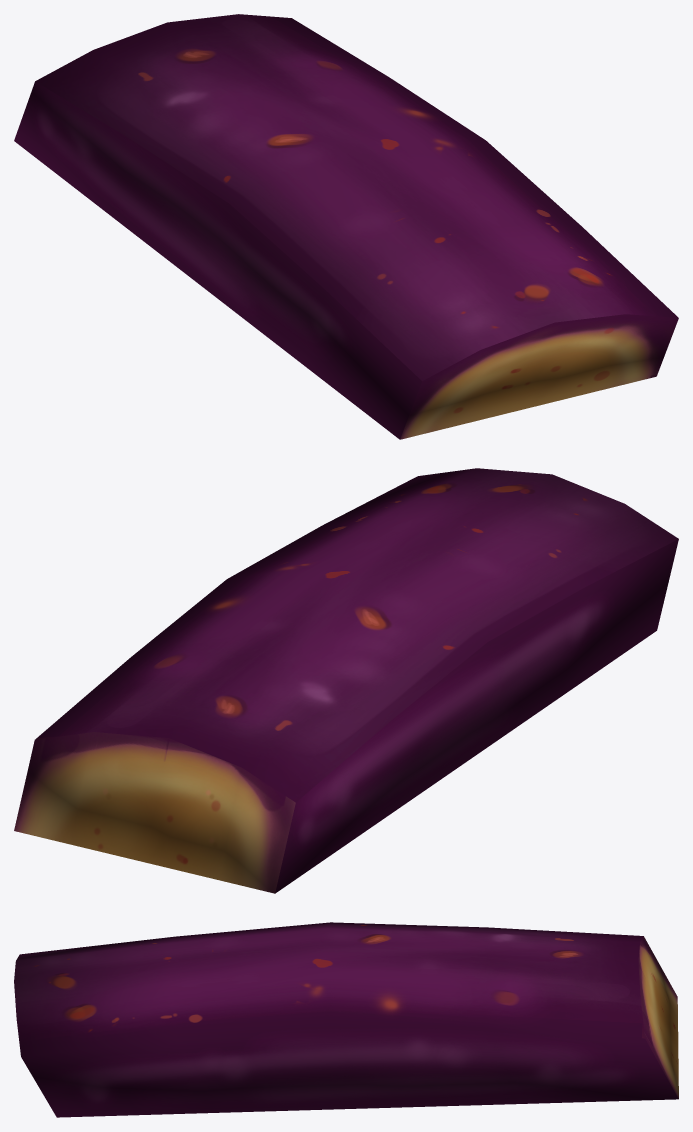
Rendered from eggplant.fbx.
The picture shows the model from 3 angles, top to bottom: view 1: azimuth 30°, elevation 25°; view 2: azimuth 150°, elevation 25°; view 3: azimuth 270°, elevation 25°; orthographic projection. The views are drawn at different scales.
Parts seen in each view (by area): view 1: eggplant_single; view 2: eggplant_single; view 3: eggplant_single.
Boxes of the visible parts, bbox=[...] form: eggplant_single: bbox=[14, 14, 678, 439]; eggplant_single: bbox=[14, 468, 678, 893]; eggplant_single: bbox=[14, 922, 678, 1117].
Bounding box in the file's own units: 9.57 × 4.99 × 25.82.
